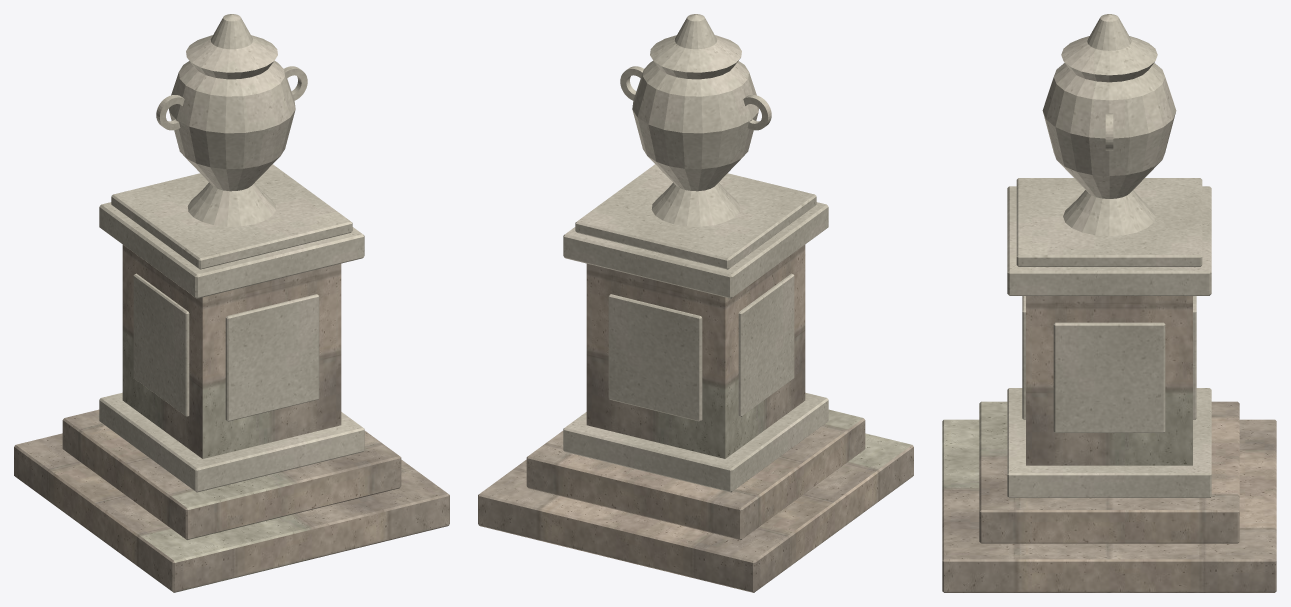
Rendered from monument.glb.
3 renders of one model, left to right at view 1: azimuth 30°, elevation 25°; view 2: azimuth 150°, elevation 25°; view 3: azimuth 270°, elevation 25°, orthographic. The views are drawn at different scales.
Visible parts, largest first — view 1: monument_carve, monument_bstone; view 2: monument_carve, monument_bstone; view 3: monument_carve, monument_bstone.
Boxes of the visible parts, bbox=[...] form: monument_carve: bbox=[99, 14, 364, 492]; monument_bstone: bbox=[14, 245, 449, 592]; monument_carve: bbox=[563, 14, 828, 492]; monument_bstone: bbox=[478, 245, 913, 592]; monument_carve: bbox=[1007, 14, 1211, 497]; monument_bstone: bbox=[942, 296, 1276, 592].
Bounding box in the file's own units: 1.8 × 3.02 × 1.8.
2 materials, 2 textured.
